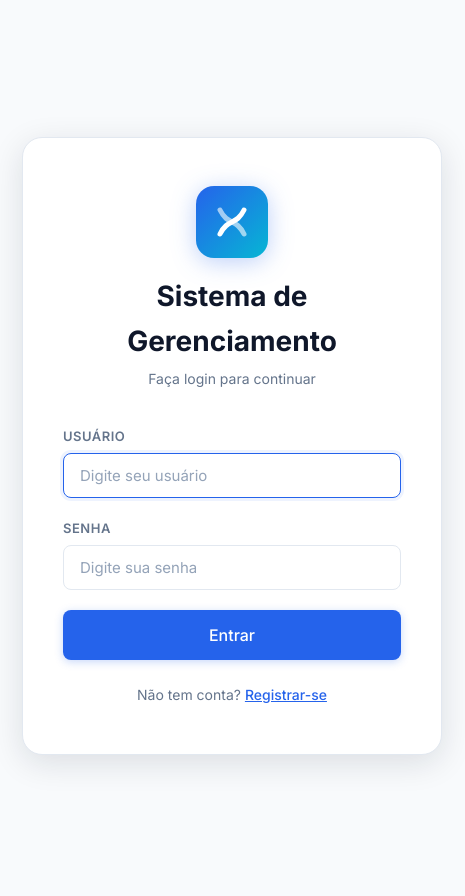
Test: Login Page › shows error when submitting empty register form
Click the button "Registrar-se" at (286,694), box top-left (245, 686), bottom-right (327, 703)
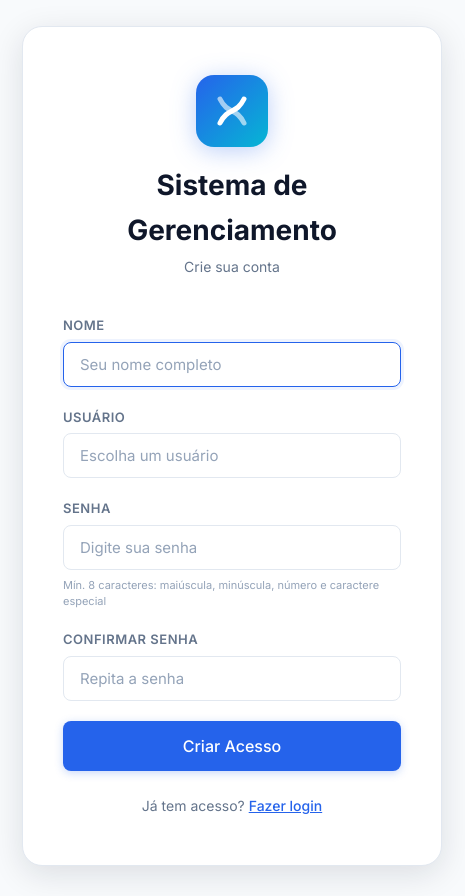
Check: the text "Crie sua conta" is shown, box top-left (184, 258), bottom-right (280, 275)
Click the button "Criar Acesso" at (232,746), box top-left (63, 721), bottom-right (401, 771)
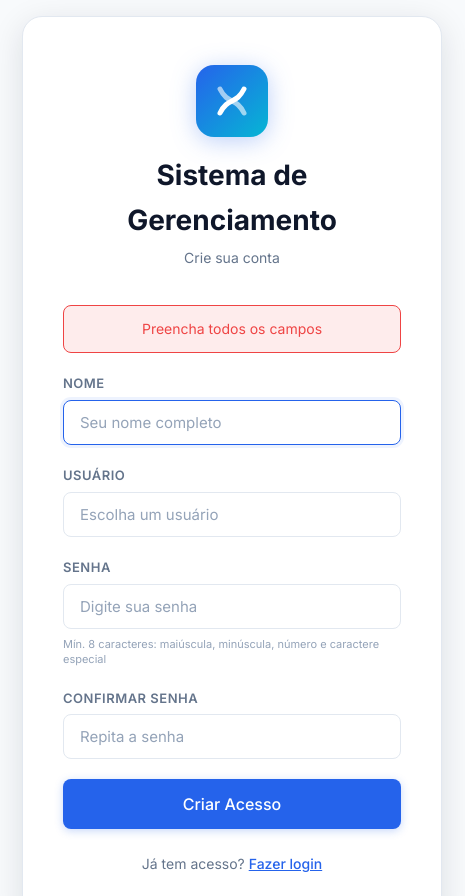
Check: the text "Preencha todos os campos" is shown, box top-left (63, 305), bottom-right (401, 353)
